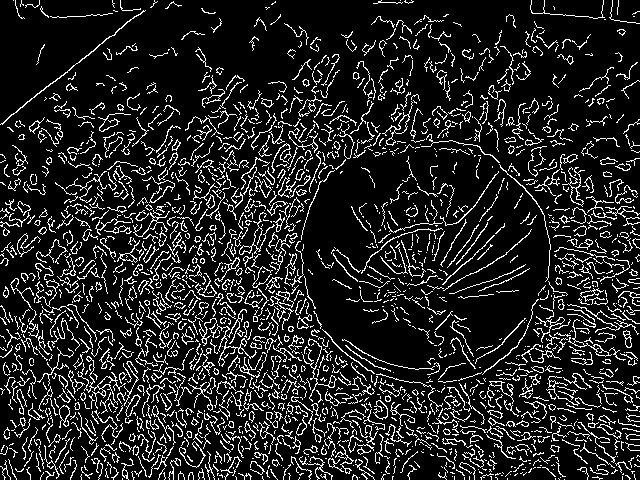onion: (298, 128, 563, 400)
